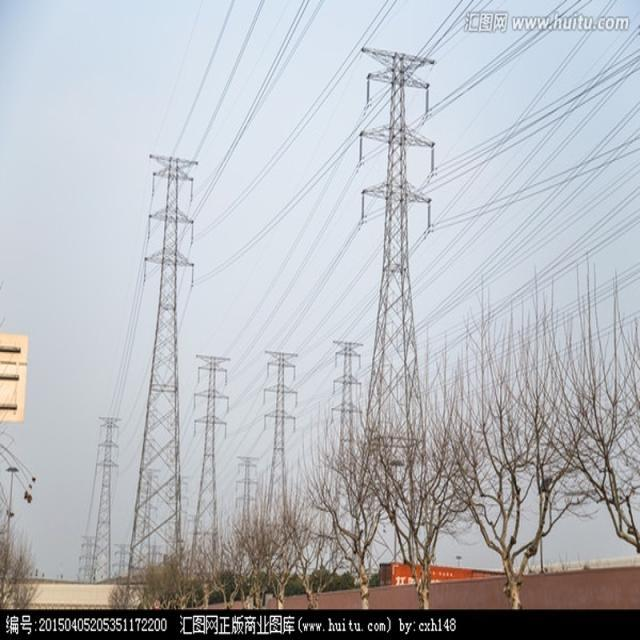non-critical vegetation: (351, 33, 456, 559), (128, 138, 194, 576), (188, 345, 238, 568), (255, 334, 300, 578), (330, 337, 366, 543), (91, 421, 122, 578), (228, 447, 267, 545)
